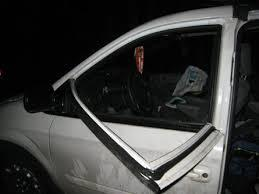Door: (41, 24, 221, 194)
